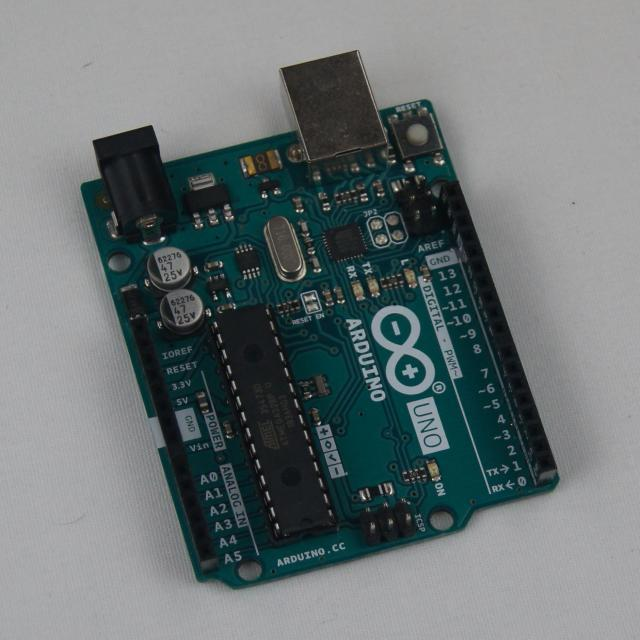Arduino Uno -Green-: (84, 52, 559, 587)
